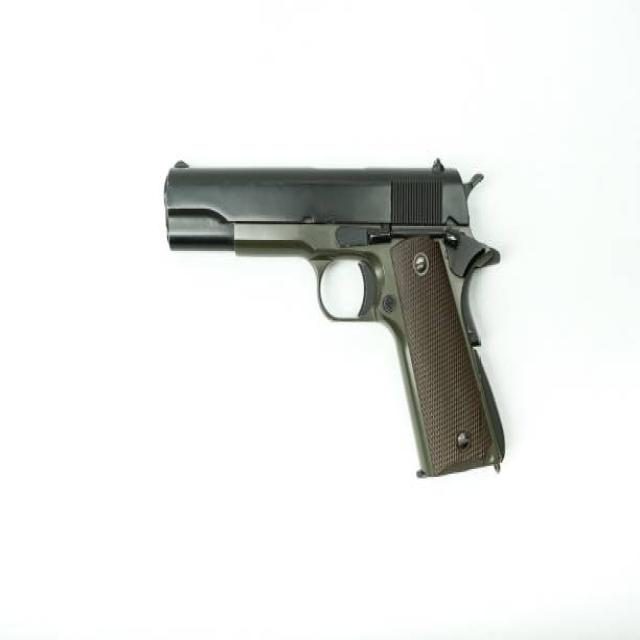pistol: (160, 150, 515, 487)
